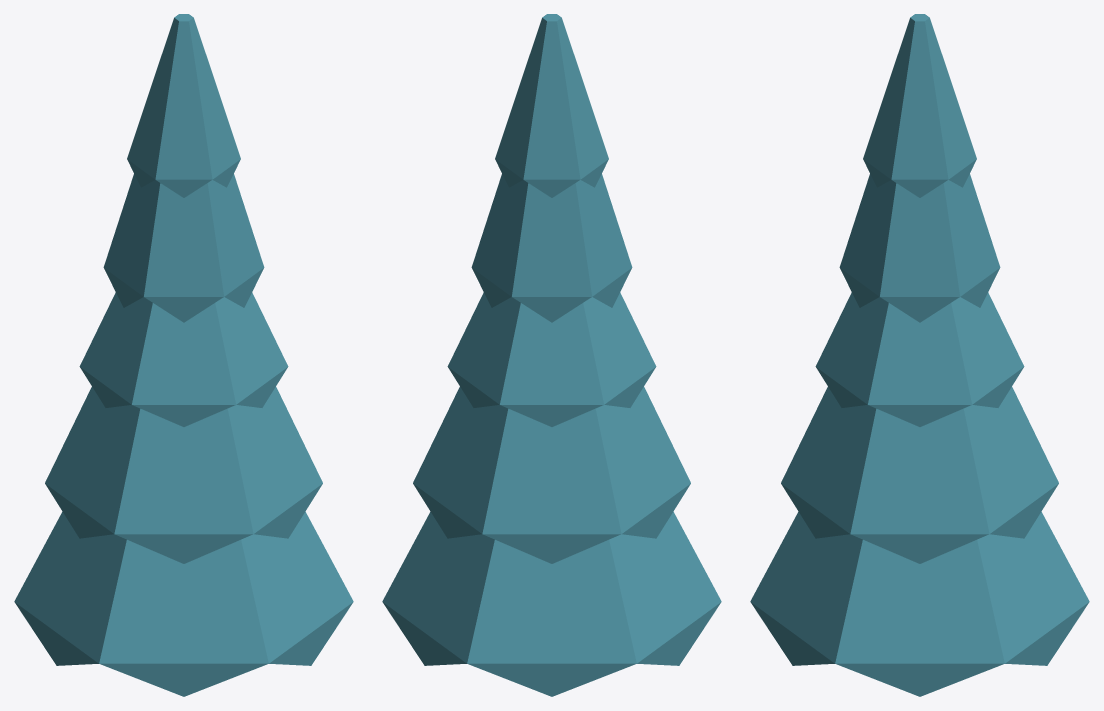
The model's file is tree_pineSmall_round3.fbx.
3 views of the same model, side by side, from view 1: azimuth 30°, elevation 25°; view 2: azimuth 150°, elevation 25°; view 3: azimuth 270°, elevation 25° (orthographic).
Parts seen in each view (by area): view 1: tree_pineSmall_round3; view 2: tree_pineSmall_round3; view 3: tree_pineSmall_round3.
Part boxes in pixels (bbox=[...]): tree_pineSmall_round3: bbox=[14, 14, 353, 696]; tree_pineSmall_round3: bbox=[382, 14, 721, 696]; tree_pineSmall_round3: bbox=[750, 14, 1089, 696].
Size of the model in its own units: 4.8 by 11.13 by 5.55.
